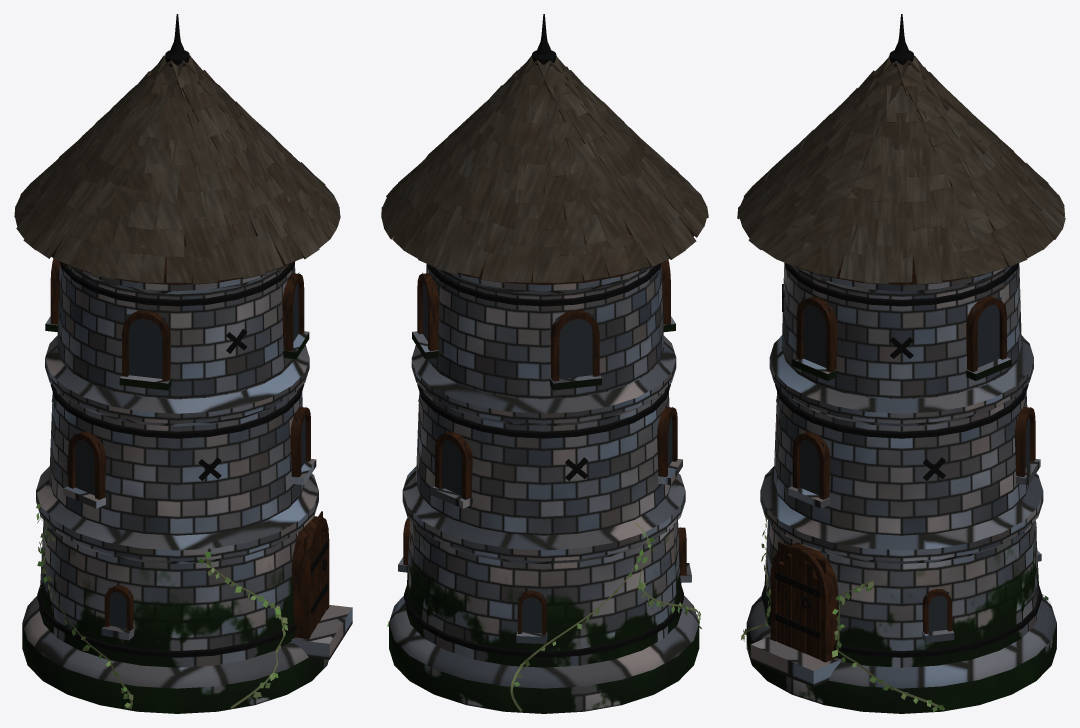
File: watchtower.glb
3 views of the same model, side by side, from view 1: azimuth 30°, elevation 25°; view 2: azimuth 150°, elevation 25°; view 3: azimuth 270°, elevation 25° (orthographic).
Parts seen in each view (by area): view 1: Watchtower_Stone, Watchtower_RoofShingles, Watchtower_Woodwork, Watchtower_Ironwork, Watchtower_StoneTrim, Watchtower_Glass, Watchtower_Ivy; view 2: Watchtower_Stone, Watchtower_RoofShingles, Watchtower_Ironwork, Watchtower_Woodwork, Watchtower_Glass, Watchtower_StoneTrim, Watchtower_Ivy; view 3: Watchtower_Stone, Watchtower_RoofShingles, Watchtower_Woodwork, Watchtower_Ironwork, Watchtower_StoneTrim, Watchtower_Glass, Watchtower_Ivy.
Part boxes in pixels (<box>): Watchtower_Stone: <box>22,263,328,713</box>; Watchtower_RoofShingles: <box>14,55,340,284</box>; Watchtower_Woodwork: <box>50,258,329,638</box>; Watchtower_Ironwork: <box>37,14,328,657</box>; Watchtower_StoneTrim: <box>45,316,352,659</box>; Watchtower_Glass: <box>55,260,306,628</box>; Watchtower_Ivy: <box>36,497,288,708</box>; Watchtower_Stone: <box>389,263,699,713</box>; Watchtower_RoofShingles: <box>381,55,708,283</box>; Watchtower_Ironwork: <box>404,14,683,657</box>; Watchtower_Woodwork: <box>403,260,686,634</box>; Watchtower_Glass: <box>407,261,682,632</box>; Watchtower_StoneTrim: <box>398,316,691,643</box>; Watchtower_Ivy: <box>387,522,701,711</box>; Watchtower_Stone: <box>746,263,1056,713</box>; Watchtower_RoofShingles: <box>737,55,1065,284</box>; Watchtower_Woodwork: <box>770,296,1036,662</box>; Watchtower_Ironwork: <box>761,14,1041,657</box>; Watchtower_StoneTrim: <box>750,357,1041,686</box>; Watchtower_Glass: <box>798,297,1030,631</box>; Watchtower_Ivy: <box>741,474,1050,712</box>.
Bounding box in the file's own units: 6.45 × 13.75 × 6.46.
Materials: 6 (4 with a texture image).
